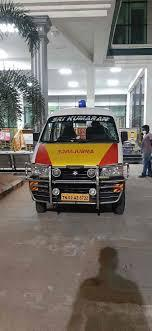ER: (28, 99, 126, 216)
